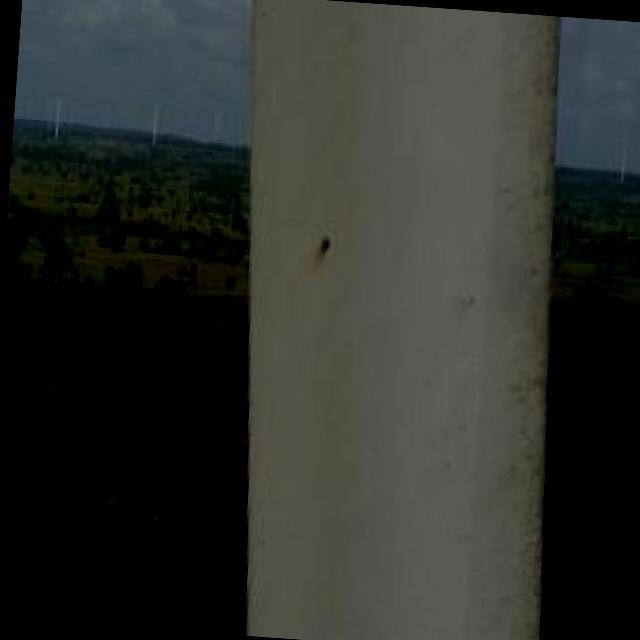Dirt: (443, 6, 560, 639)
Pin Hole: (314, 236, 333, 258)
